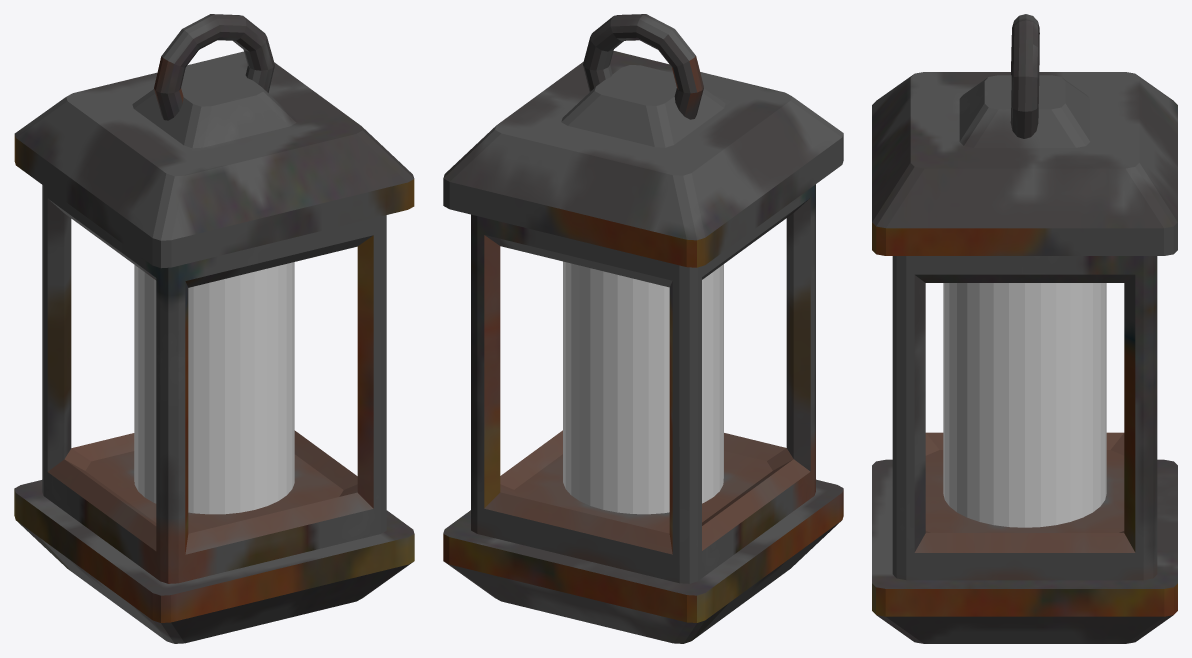
The model's file is Lantern.fbx.
The picture shows the model from 3 angles, left to right: view 1: azimuth 30°, elevation 25°; view 2: azimuth 150°, elevation 25°; view 3: azimuth 270°, elevation 25°; orthographic projection.
Parts seen in each view (by area): view 1: Cube, Cylinder; view 2: Cube, Cylinder; view 3: Cube, Cylinder.
Boxes of the visible parts, x1,y1,x2,y2 form: Cube: [14, 14, 414, 643]; Cylinder: [134, 262, 294, 514]; Cube: [443, 14, 843, 643]; Cylinder: [563, 261, 723, 514]; Cube: [872, 14, 1177, 643]; Cylinder: [943, 283, 1106, 527].
Bounding box in the file's own units: 231 × 480 × 231.
